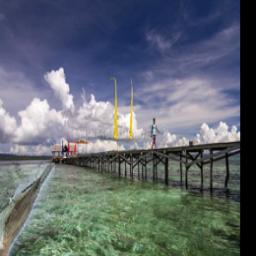Cuckoo: (0, 163, 56, 256)
